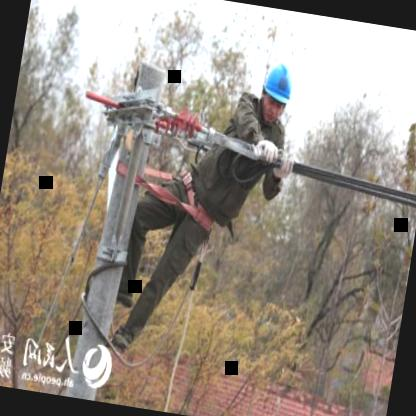helmet: (254, 56, 299, 132)
